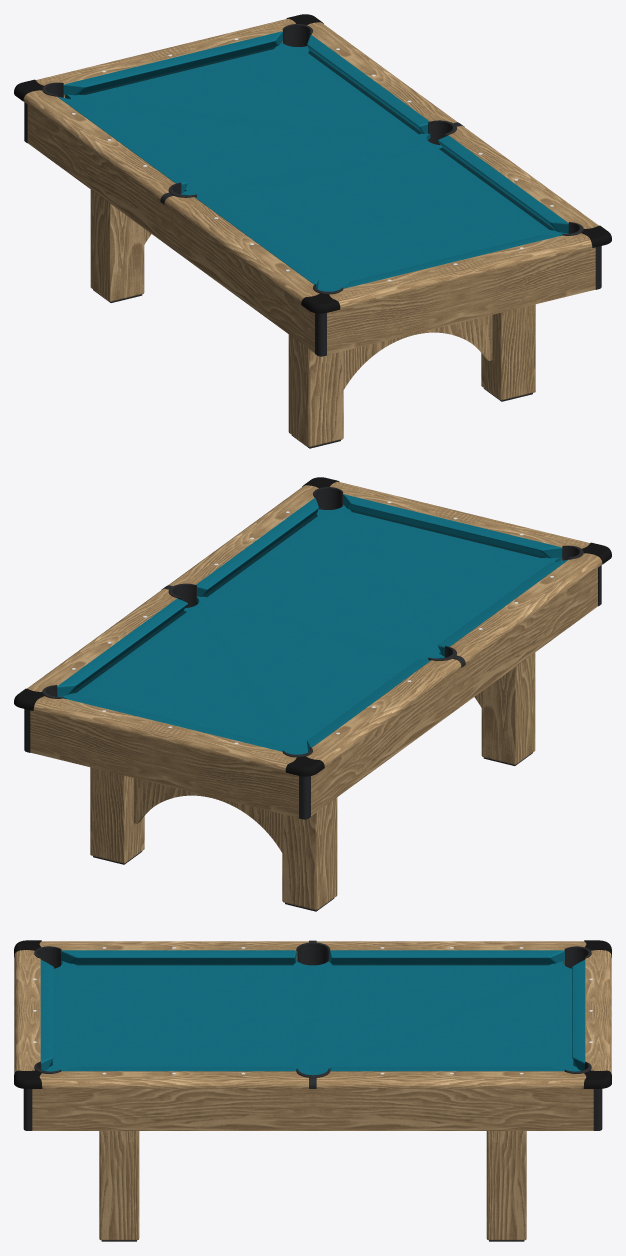
Rendered from seven_foot_showood.glb.
3 views of the same model, one above another, from view 1: azimuth 30°, elevation 25°; view 2: azimuth 150°, elevation 25°; view 3: azimuth 270°, elevation 25° (orthographic). The views are drawn at different scales.
Parts seen in each view (by area): view 1: slate, frame, legs, cushion_long, cushion_short, bevel_1, pocket_corner_holder, cushion_long_shadow, bevel_3, pocket_side_holder; view 2: slate, frame, legs, cushion_long, cushion_short, bevel_1, pocket_corner_holder, cushion_long_shadow, bevel_3, pocket_side_holder; view 3: slate, frame, legs, cushion_long, cushion_short, bevel_1, cushion_long_shadow, pocket_corner_holder, bevel_3, pocket_side_holder.
Boxes of the visible parts, box(x1,y1,x2,y2) form: slate: box(65, 42, 567, 291); frame: box(23, 18, 598, 354); legs: box(90, 189, 535, 448); cushion_long: box(57, 35, 568, 288); cushion_short: box(63, 31, 559, 288); bevel_1: box(14, 14, 611, 313); pocket_corner_holder: box(42, 24, 583, 294); cushion_long_shadow: box(184, 50, 555, 230); bevel_3: box(24, 102, 601, 356); pocket_side_holder: box(168, 120, 456, 197); slate: box(58, 505, 560, 754); frame: box(27, 481, 602, 817); legs: box(90, 652, 535, 911); cushion_long: box(57, 498, 568, 751); cushion_short: box(66, 494, 562, 751); bevel_1: box(14, 477, 611, 776); pocket_corner_holder: box(42, 487, 583, 757); cushion_long_shadow: box(70, 513, 441, 693); bevel_3: box(24, 565, 601, 819); pocket_side_holder: box(168, 583, 456, 660); slate: box(45, 960, 580, 1075); frame: box(14, 941, 611, 1130); legs: box(99, 1131, 526, 1241); cushion_long: box(61, 950, 564, 1071); cushion_short: box(40, 959, 585, 1070); bevel_1: box(14, 940, 611, 1088); cushion_long_shadow: box(74, 963, 551, 965); pocket_corner_holder: box(34, 946, 591, 1073); bevel_3: box(23, 1089, 602, 1130); pocket_side_holder: box(296, 942, 330, 1077).
Bounding box in the file's own units: 1.3 × 0.7556 × 2.29.
Materials: 7 (4 with a texture image).
